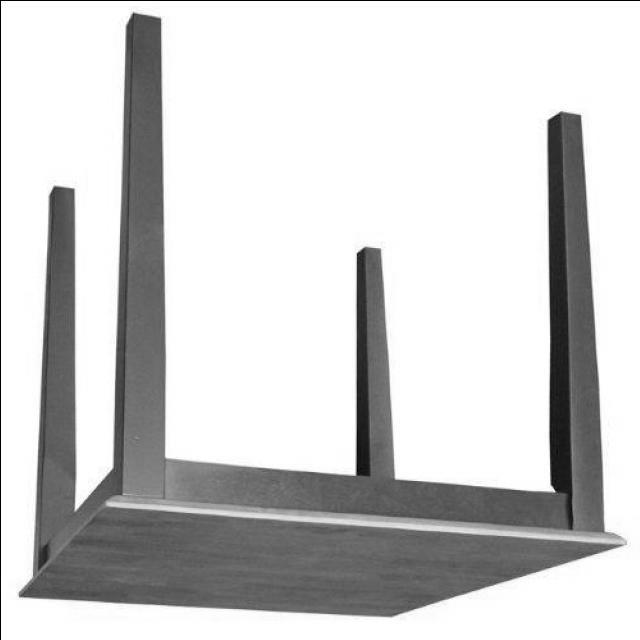table: (16, 12, 624, 619)
